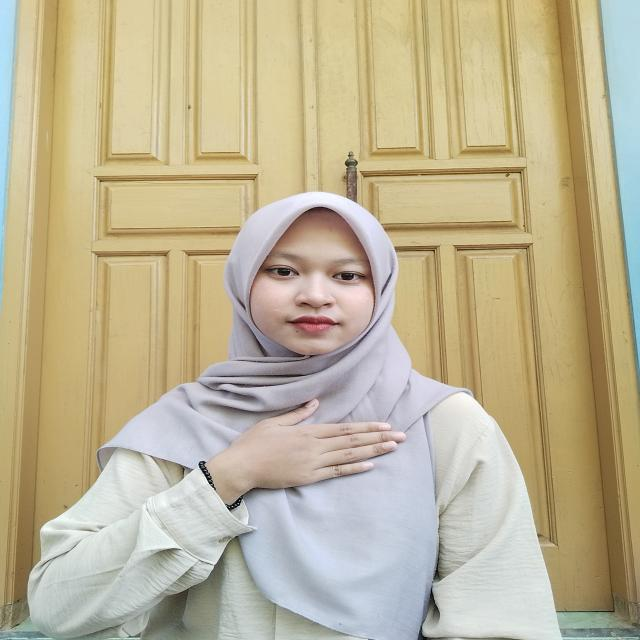tolong: (188, 396, 414, 538)
